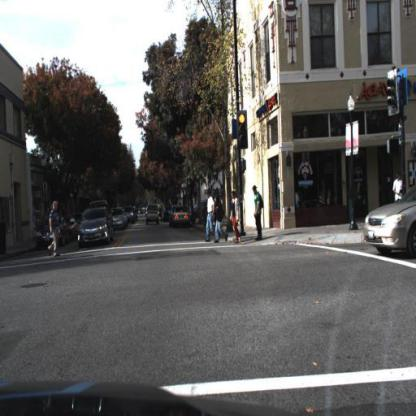car: (364, 190, 416, 258), (32, 208, 72, 253), (78, 205, 114, 246), (36, 215, 68, 250), (169, 203, 193, 231), (172, 205, 192, 229), (114, 209, 126, 232), (125, 206, 138, 225)
pedestrian: (45, 199, 67, 258), (253, 183, 265, 237), (51, 201, 62, 256), (205, 191, 215, 243), (393, 172, 404, 214), (215, 195, 224, 244), (232, 192, 240, 244)
trafficLight: (238, 111, 250, 148)
